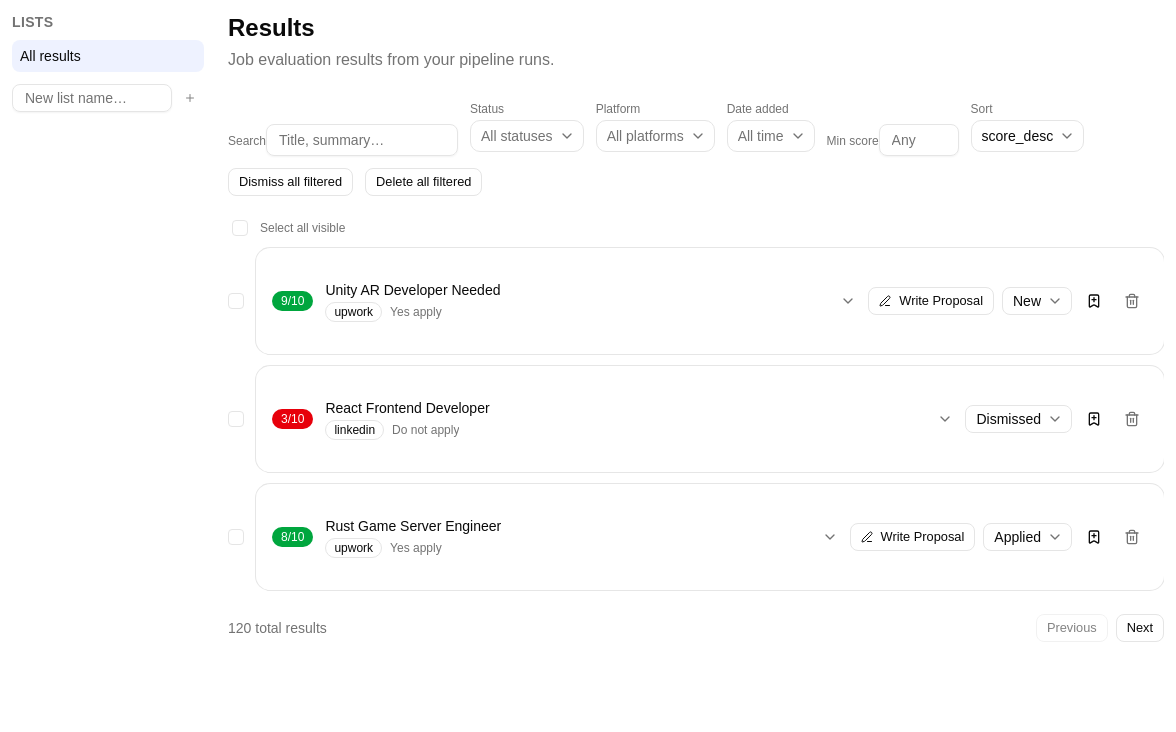
ResultsPage › navigates to next page
Check: the button "Previous" is disabled, box x1=1036 y1=614 x2=1108 y2=642
Click the button "Next" at (1140, 628), box x1=1116 y1=614 x2=1164 y2=642
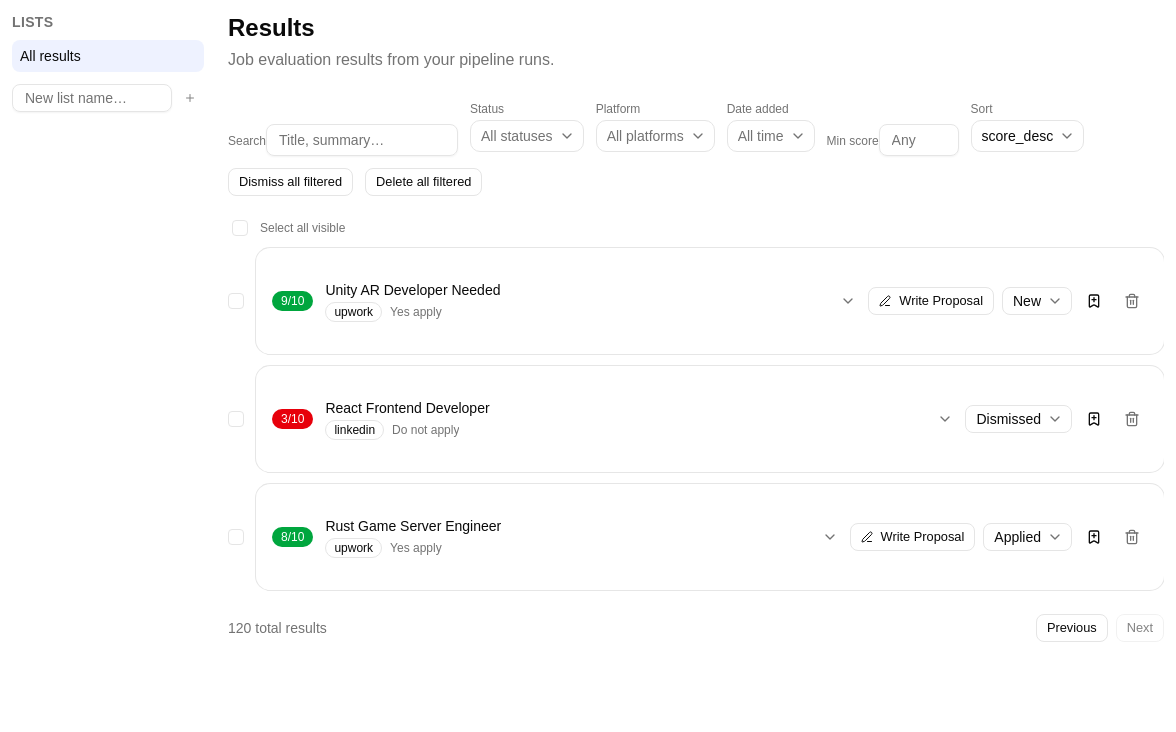
Check: the button "Previous" is enabled, box x1=1036 y1=614 x2=1108 y2=642
Check: the button "Next" is disabled, box x1=1116 y1=614 x2=1164 y2=642
